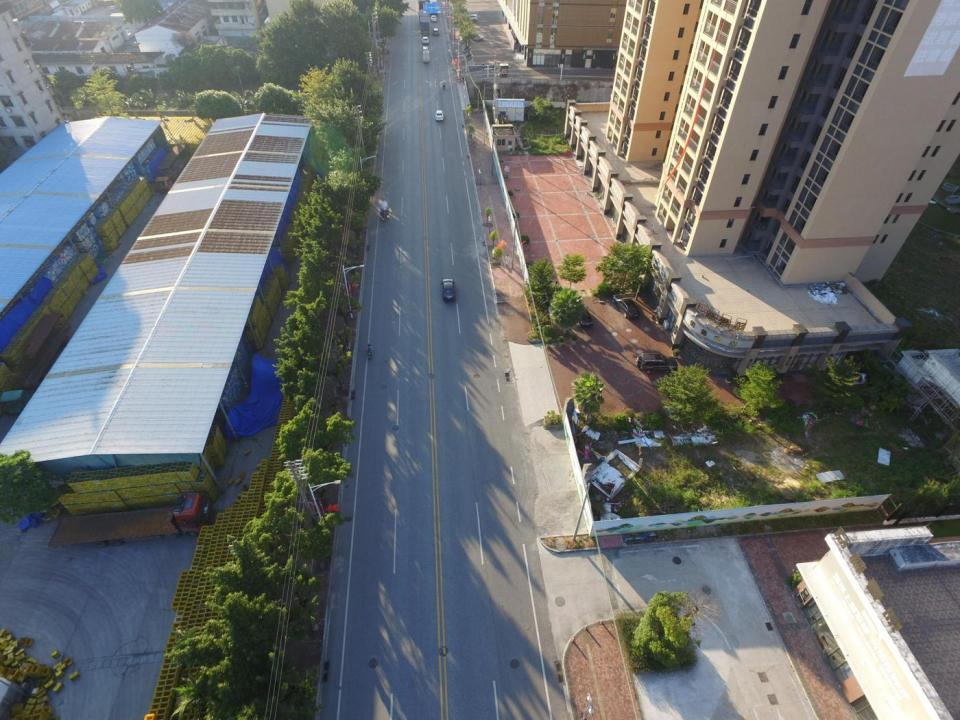car: (635, 350, 677, 374), (612, 290, 640, 320), (575, 304, 594, 328), (440, 276, 456, 302), (434, 110, 445, 121), (464, 14, 478, 22), (471, 34, 484, 41), (421, 35, 429, 44), (430, 14, 438, 22), (433, 26, 438, 36)
truck: (48, 492, 218, 550), (417, 10, 429, 36), (421, 47, 431, 64)
